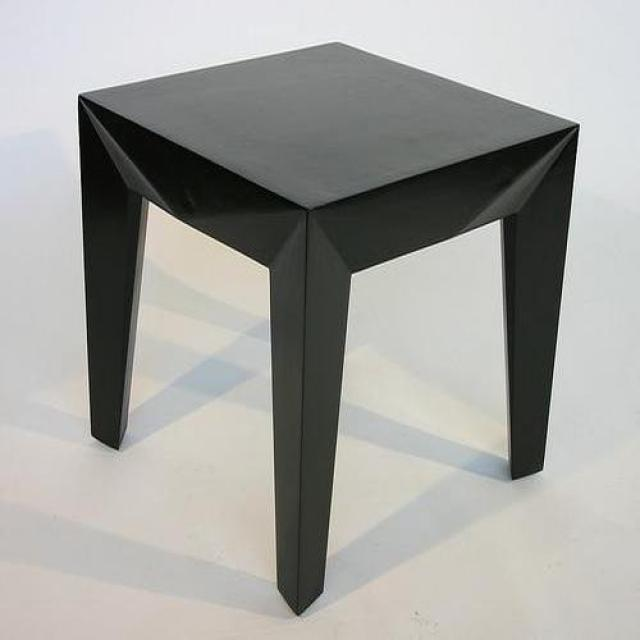table: (78, 44, 580, 617)
